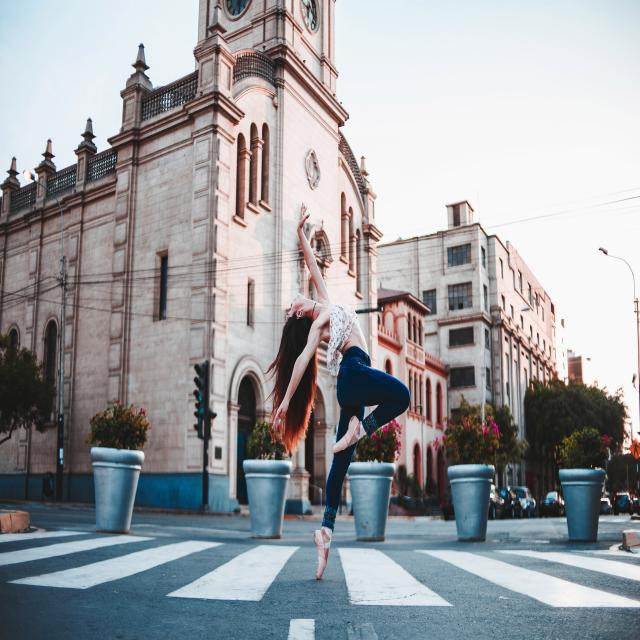adult: (270, 202, 410, 582)
